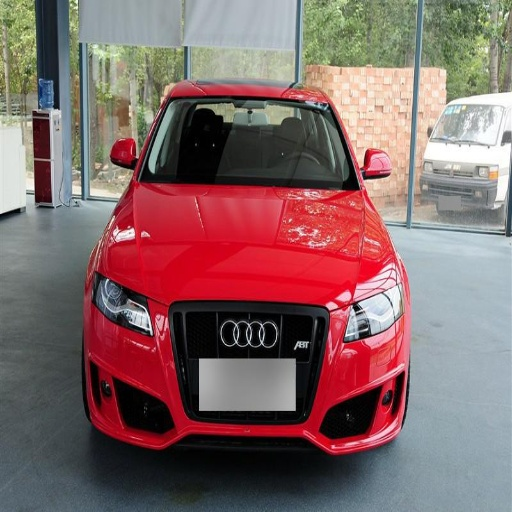back_right_light: (87, 299, 400, 454)
front_bumper: (142, 98, 358, 188)
front_left_door: (343, 267, 404, 343)
front_right_door: (88, 265, 154, 336)
front_right_light: (103, 178, 392, 309)
